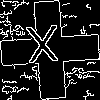X: (25, 25, 61, 73)
